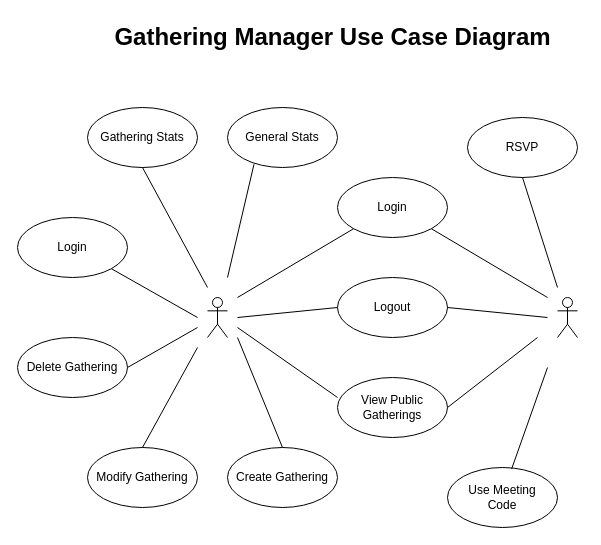
This 601x545 diagram has some shape labels left out. The shapes that lost their labels are listed below. From the top down, each one's box as (x1, y1, x2, y2) in pixels, then its label:
(206, 296, 228, 338): Host
(556, 296, 578, 338): Guest
